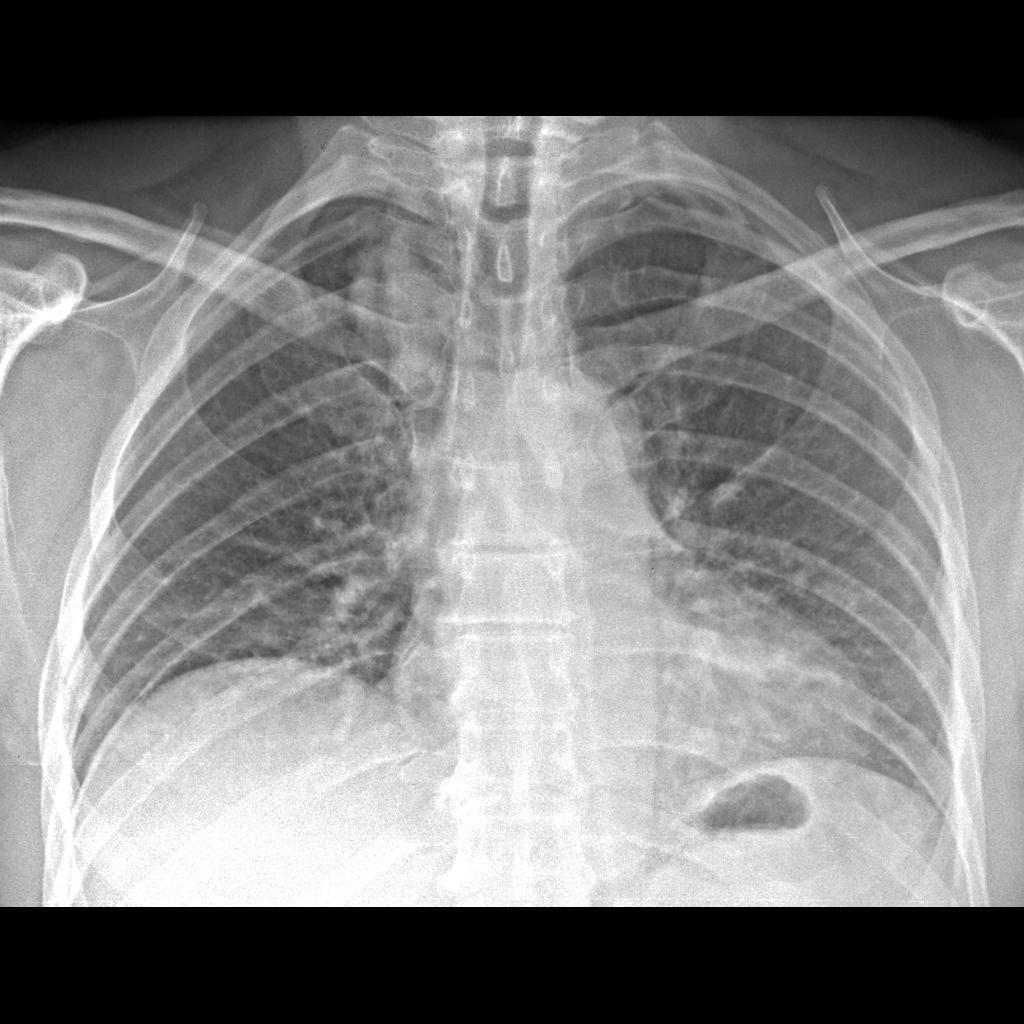Nodule: (348, 239, 466, 377)
